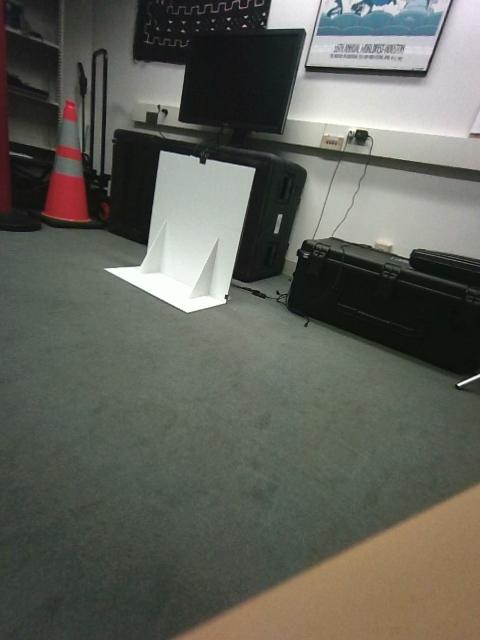block: (151, 286, 195, 324)
